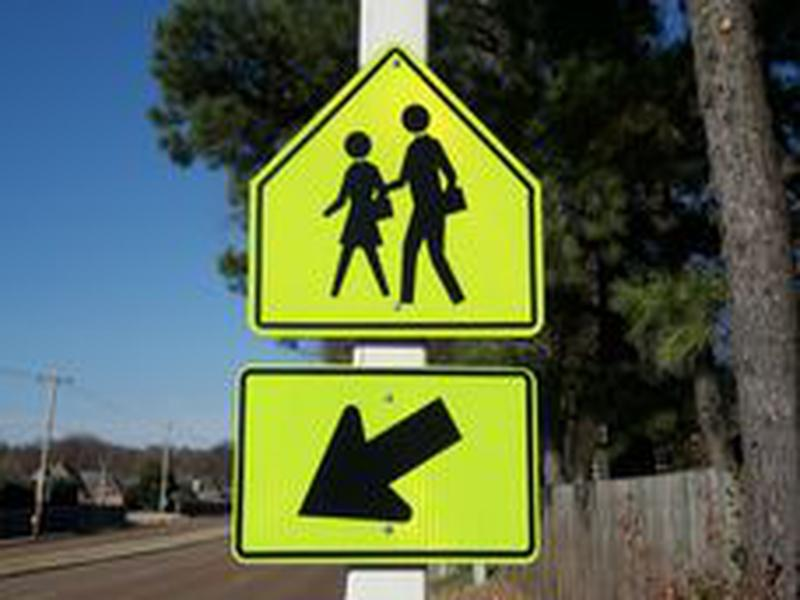slow: (239, 53, 553, 337)
